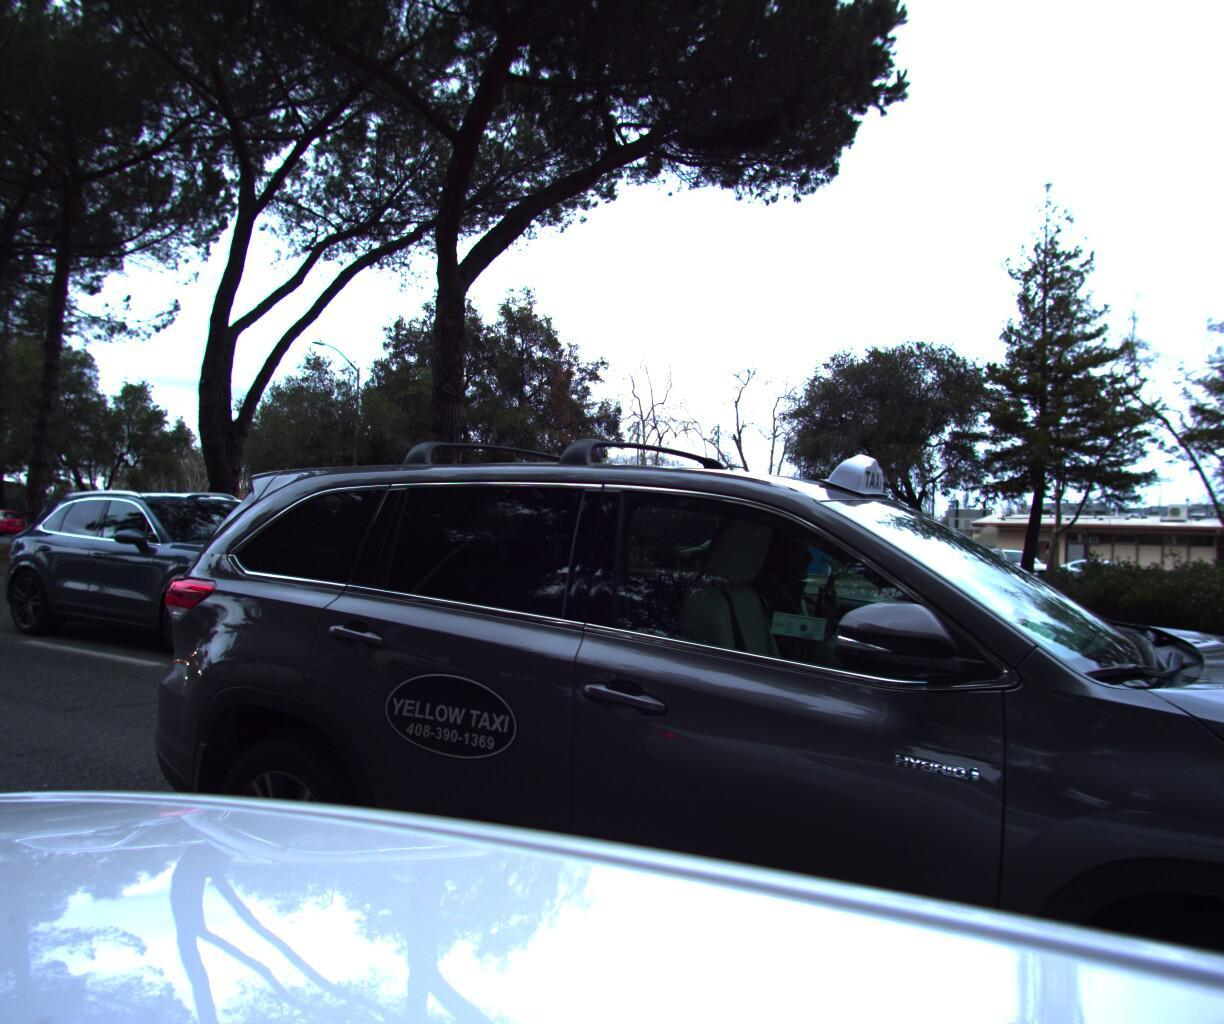car: (62, 253, 1224, 1024), (0, 479, 397, 675), (0, 517, 41, 548)
